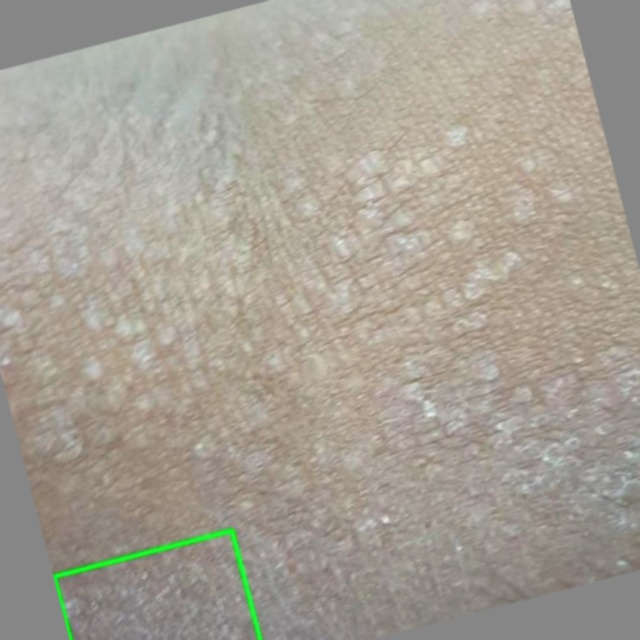Atopic Dermatitis: (54, 530, 261, 639)
